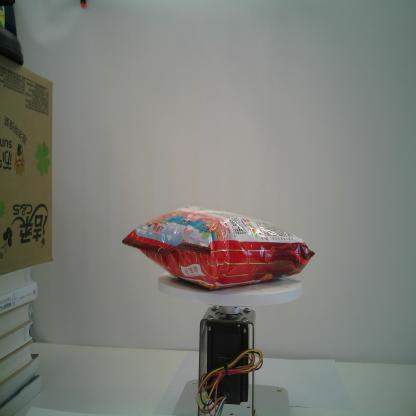Puffed Food: (122, 206, 315, 291)
